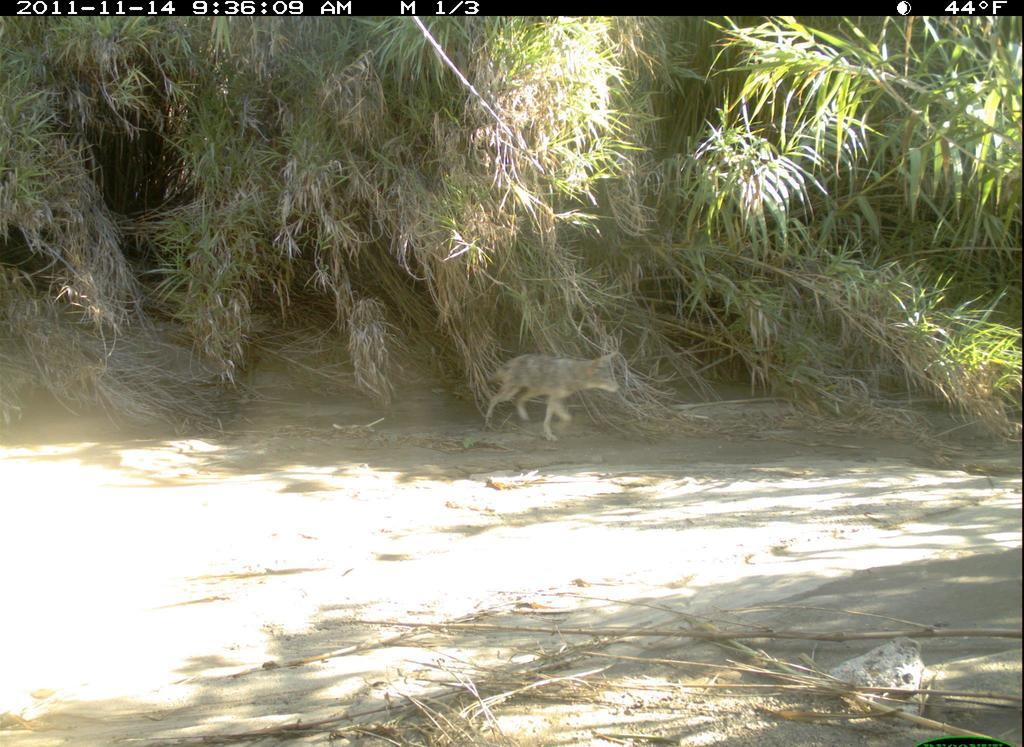coyote: (486, 349, 626, 450)
